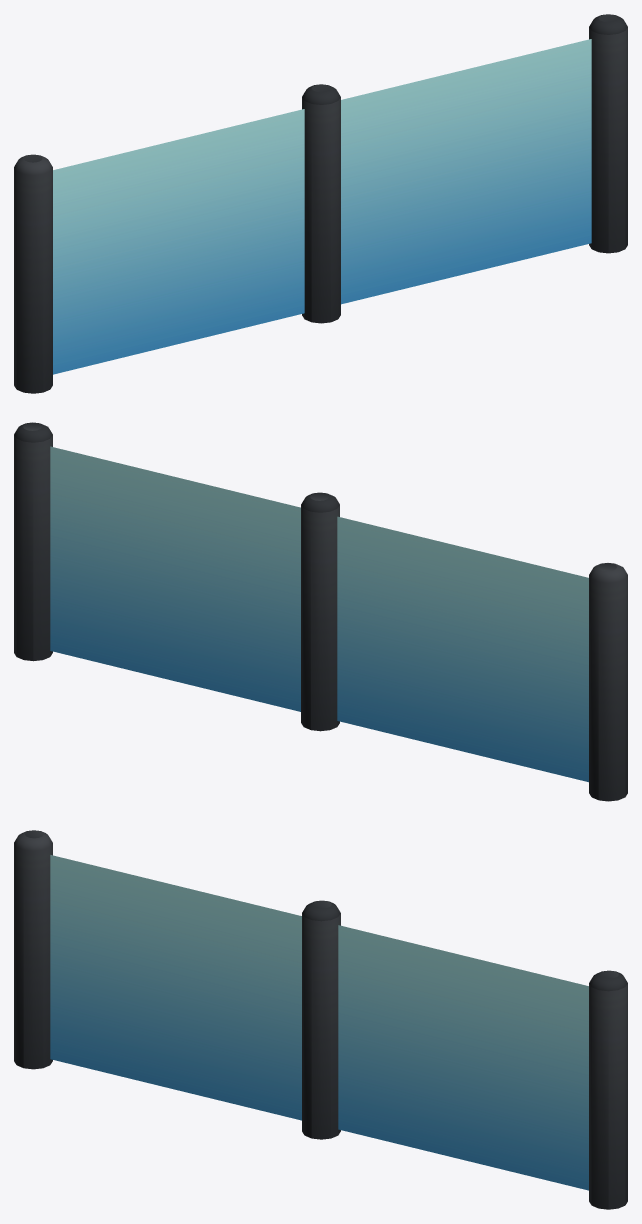
Rendered from Gate (1).fbx.
The picture shows the model from 3 angles, top to bottom: view 1: azimuth 30°, elevation 25°; view 2: azimuth 150°, elevation 25°; view 3: azimuth 330°, elevation 25°; orthographic projection.
Parts seen in each view (by area): view 1: gate math place, gate poles; view 2: gate math place, gate poles; view 3: gate math place, gate poles.
Part boxes in pixels (left/top/right/bottom): gate math place: left=53, top=39, right=591, bottom=374; gate poles: left=14, top=14, right=627, bottom=393; gate math place: left=50, top=446, right=588, bottom=782; gate poles: left=14, top=422, right=627, bottom=801; gate math place: left=50, top=855, right=588, bottom=1190; gate poles: left=14, top=830, right=627, bottom=1209.
Bounding box in the file's own units: 602 × 214 × 33.31.
